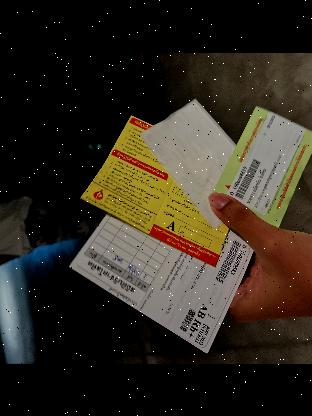Others: (66, 199, 256, 359), (81, 108, 235, 260), (213, 101, 312, 244), (144, 97, 246, 227)
